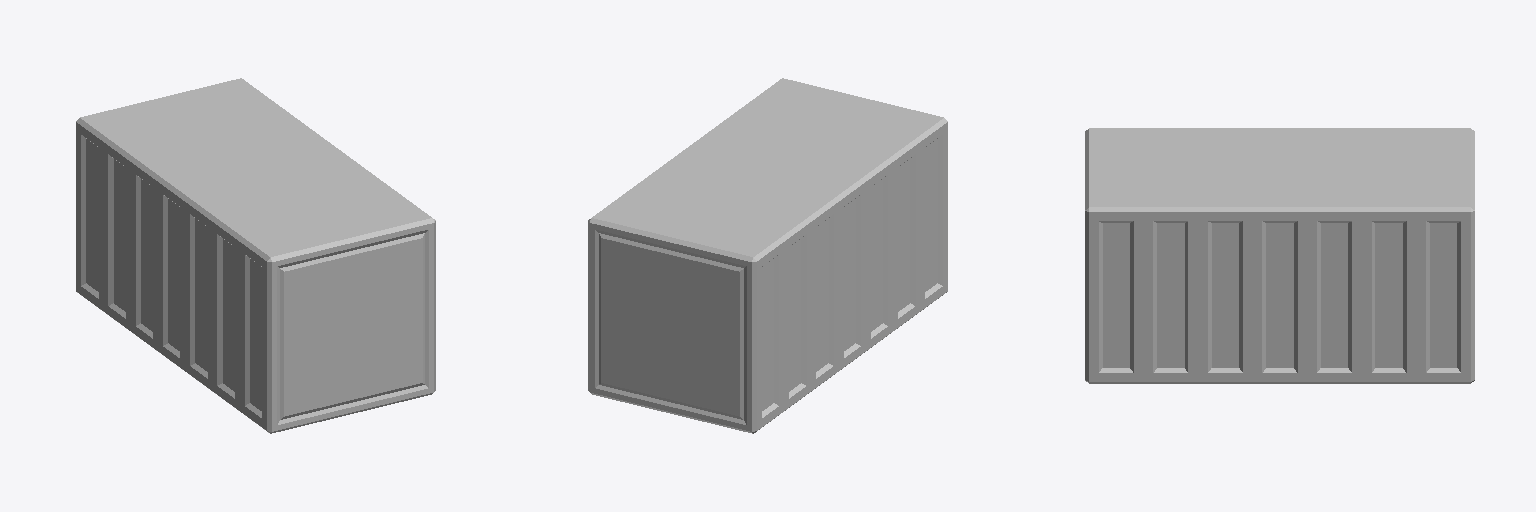
Rendered from Crate_Large.obj.
3 renders of one model, left to right at view 1: azimuth 30°, elevation 25°; view 2: azimuth 150°, elevation 25°; view 3: azimuth 270°, elevation 25°, orthographic.
Visible parts, largest first — view 1: Crate_Large.obj; view 2: Crate_Large.obj; view 3: Crate_Large.obj.
Part boxes in pixels (left/top/right/bottom): Crate_Large.obj: left=76, top=78, right=435, bottom=433; Crate_Large.obj: left=588, top=78, right=947, bottom=433; Crate_Large.obj: left=1085, top=128, right=1474, bottom=383.
Bounding box in the file's own units: 2 × 2 × 4.